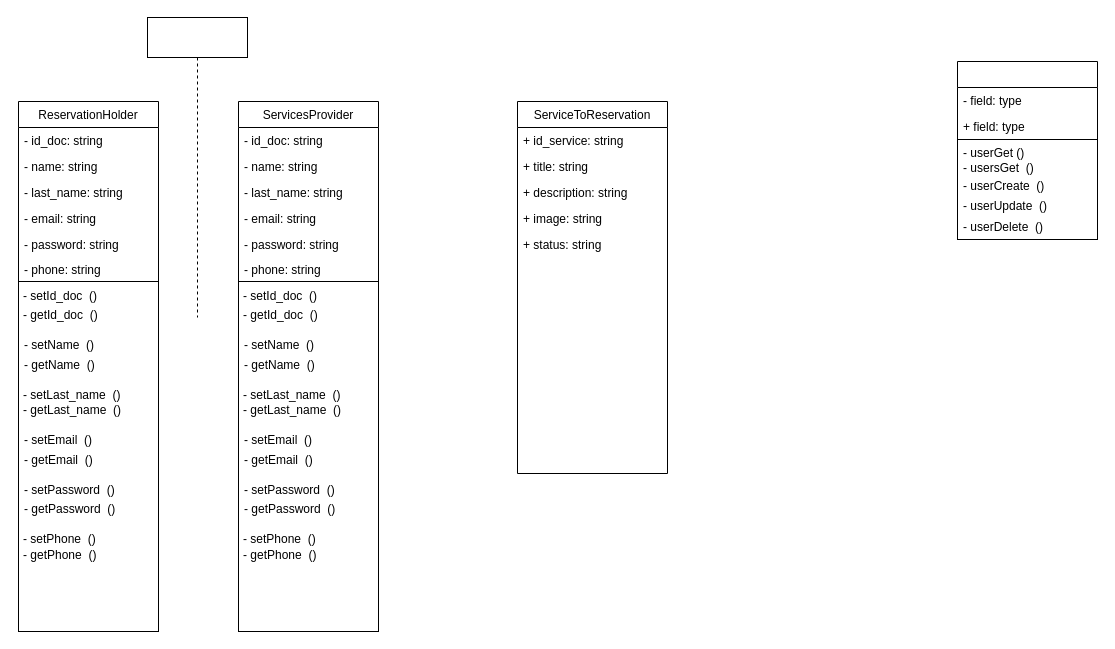
The diagram is 1115 pixels wide and 649 high, and some of its shapes have lost their labels. The shapes that lost their labels are listed below. From the top down, each one's box as (x1, y1, x2, y2) in pixels, then its label:
(956, 60, 1098, 140): IUserServices
(146, 16, 248, 318): Users models
